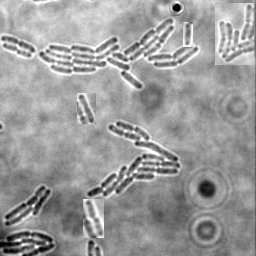Dividing: (83, 199, 104, 238), (1, 34, 37, 52), (3, 41, 33, 57), (183, 22, 193, 47)
Microcolony: (40, 18, 199, 89), (87, 120, 181, 197), (215, 3, 254, 65), (5, 184, 52, 226), (1, 230, 56, 255)
Rod: (77, 93, 96, 124)
